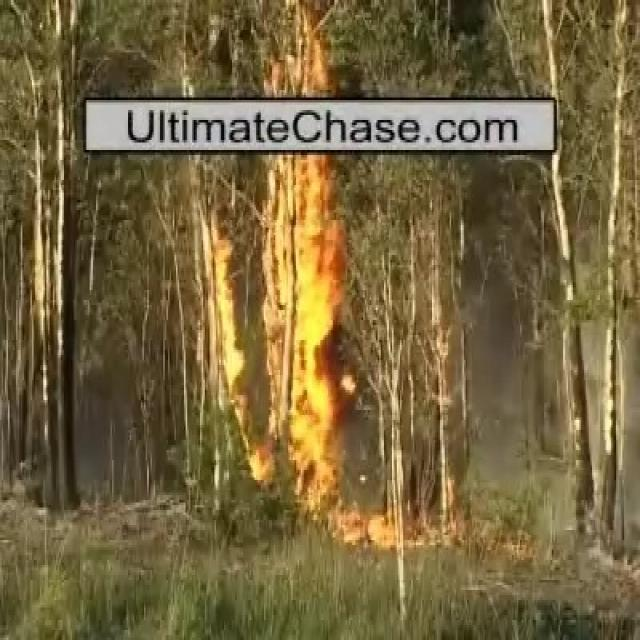fire: (272, 158, 332, 486)
smoke: (471, 324, 518, 434)
